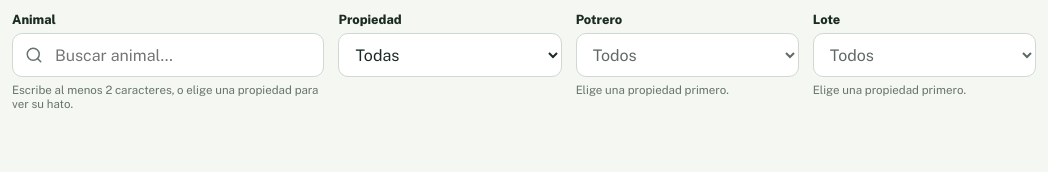
Scenario: AnimalPicker › limpia Potrero y Lote al cambiar de Propiedad
Select "Hacienda Santa Bárbara" in the dropdown labelled "Propiedad" at (450, 55), box [340,34,561,76]
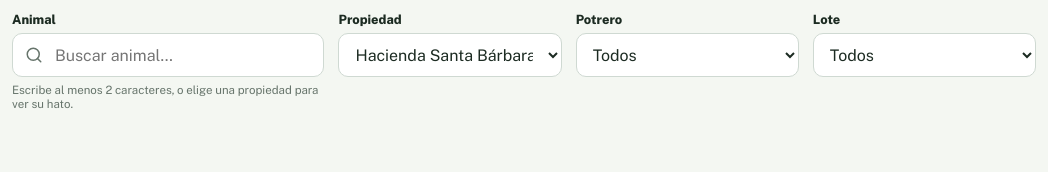
Select "Potrero 4" in the dropdown labelled "Potrero" at (687, 55), box [577,34,798,76]
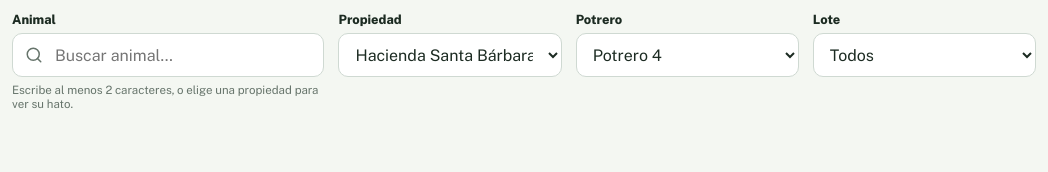
Select "Todas" in the dropdown labelled "Propiedad" at (450, 55), box [340,34,561,76]
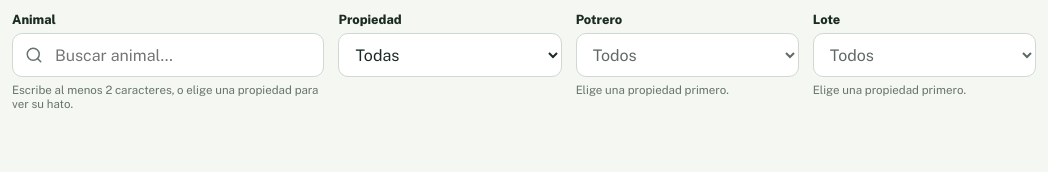
Result: the dropdown labelled "Potrero" is disabled at [577,34,798,76]
